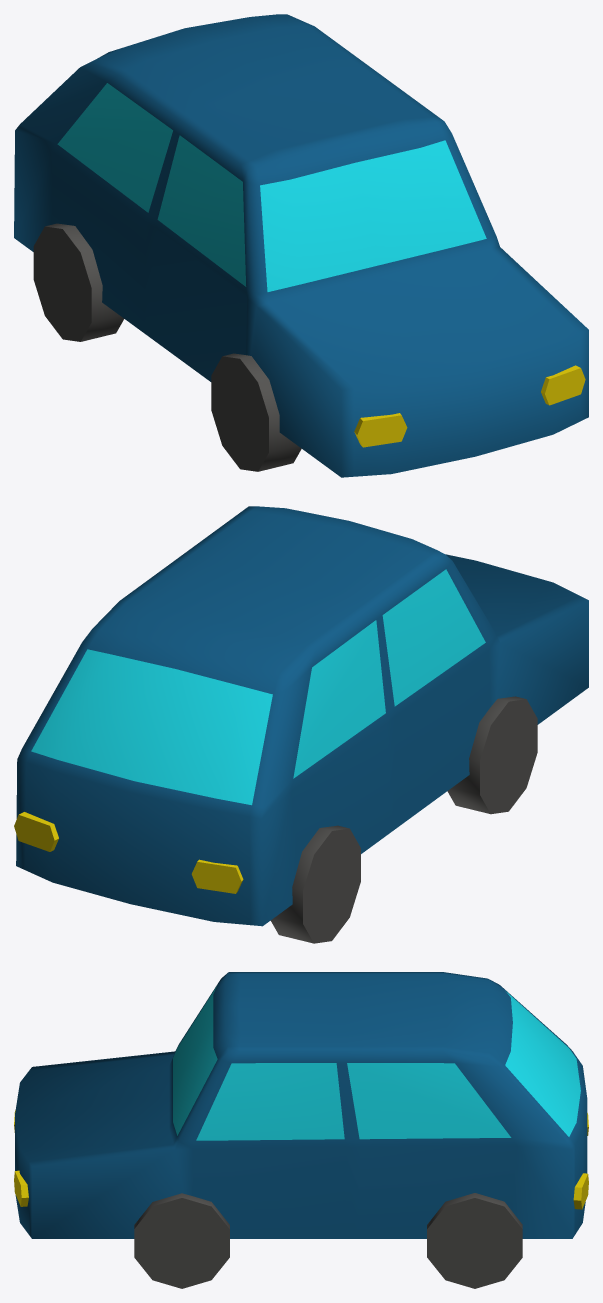
File: Carrinho01.fbx
3 views of the same model, one above another, from view 1: azimuth 30°, elevation 25°; view 2: azimuth 150°, elevation 25°; view 3: azimuth 270°, elevation 25° (orthographic). The views are drawn at different scales.
Visible parts, largest first — view 1: Carrinho01; view 2: Carrinho01; view 3: Carrinho01.
Part boxes in pixels (x1,y1,x2,y2): Carrinho01: (14,14,588,477); Carrinho01: (14,506,588,943); Carrinho01: (14,972,588,1288).
Bounding box in the file's own units: 6.61 × 6.55 × 14.86.
